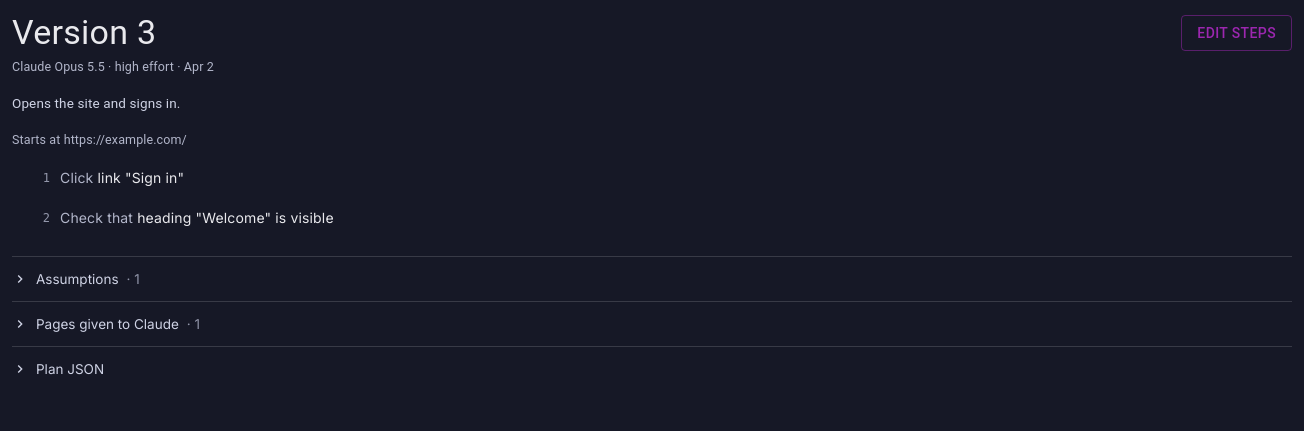
ActionScriptDetails › collapsed rows › opens the pages Claude was shown
The image size is (1304, 431).
Click the button "Pages given to Claude · 1": (107, 324) [12, 302, 1292, 346]
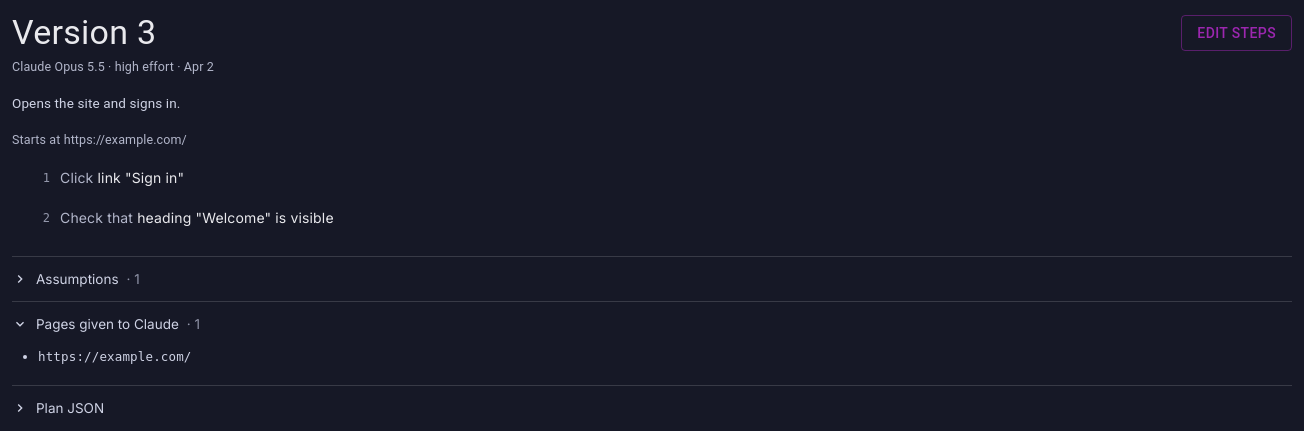
Now the list items read "https://example.com/", in this order, box [38, 349, 192, 364]
